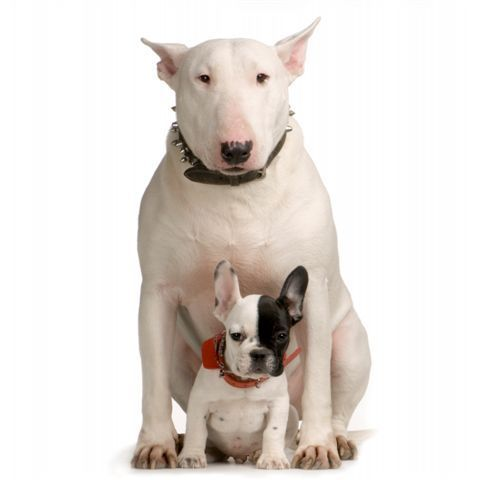bull_terrier: (131, 13, 372, 472)
other_dog_breed: (175, 259, 309, 472)
